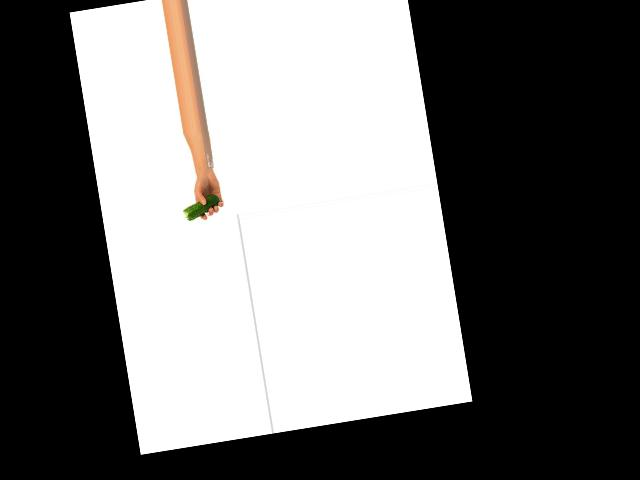cucumber: (181, 193, 222, 220)
